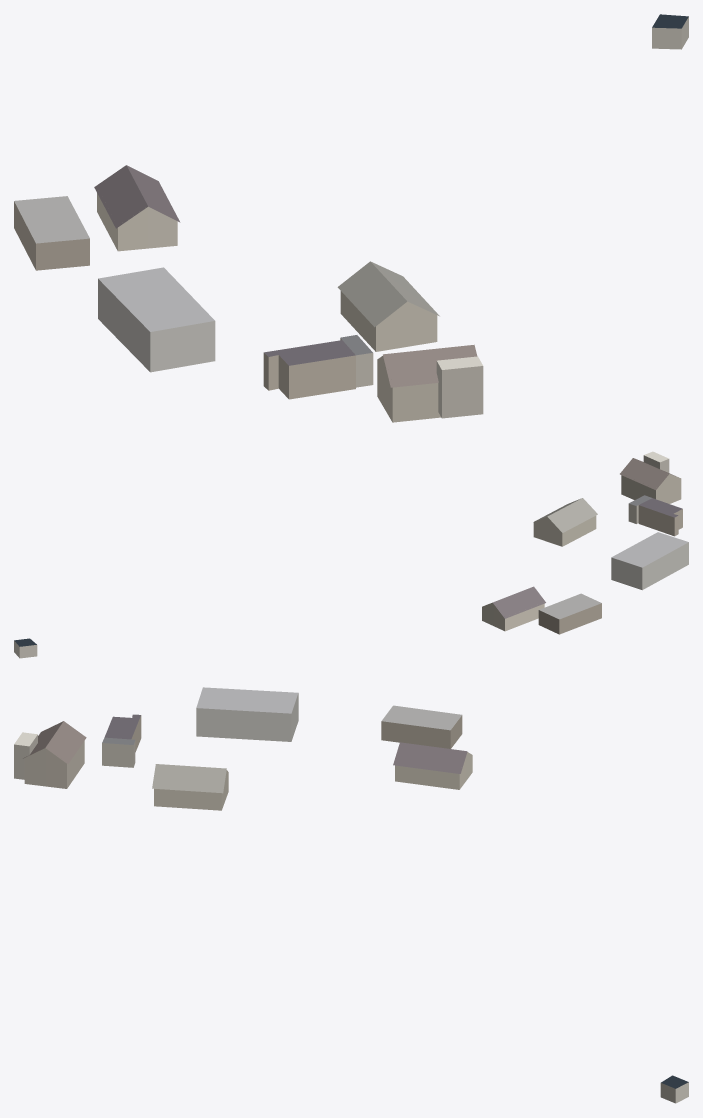
3 views of the same model, one above another, from view 1: azimuth 30°, elevation 25°; view 2: azimuth 150°, elevation 25°; view 3: azimuth 270°, elevation 25° (orthographic). The views are drawn at different scales.
Parts seen in each view (by area): view 1: tuile; view 2: tuile; view 3: tuile.
Boxes of the visible parts, x1,y1,x2,y2 form: tuile: (14,14,688,422); tuile: (14,451,688,658); tuile: (14,687,688,1103).
Size of the model in its own units: 151 by 30.01 by 143.
